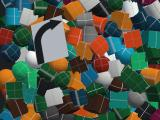Right: (31, 15, 69, 65)
